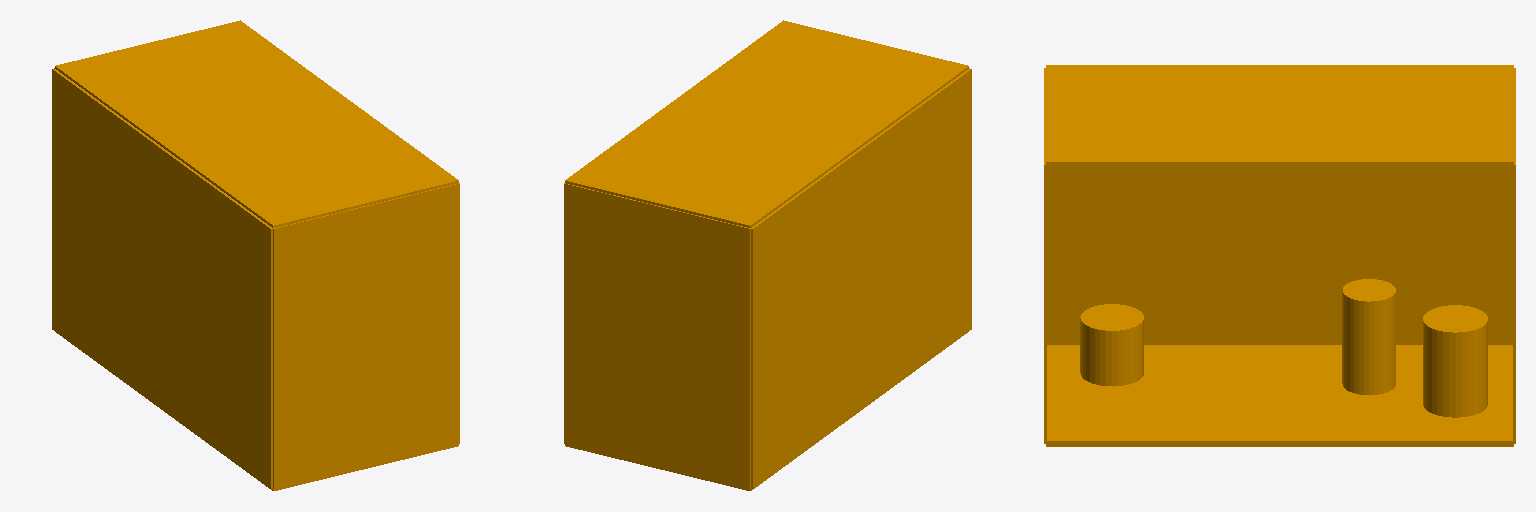
URDF robot description (syn_can_cabinet_2803):
<?xml version="1.0" ?>
<robot name="syn_can_cabinet_2803">
    <link concave="yes" name="base_link">
        <inertial>
            <origin rpy="0 0 0" xyz="0 0 0"/>
            <mass value="0.0"/>
            <inertia ixx="1e-08" ixy="0" ixz="0" iyy="1e-08" iyz="0" izz="1e-08"/>
        </inertial>
        <visual>
            <origin xyz="0 0 0" rpy="0 0 0" />
            <geometry>
                <mesh filename="syn_can_cabinet_2803.obj" scale="1.000000 1.000000 1.000000"/>
            </geometry>         
        </visual>

        <collision concave="yes">
            <origin xyz="0 0 0" rpy="0 0 0"/>
            <geometry>
                <mesh filename="syn_can_cabinet_2803.obj" scale="1.000000 1.000000 1.000000"/>
            </geometry>
        </collision>
    </link>
</robot>
    

--- Facts derived from the render (not from the file) ---
The picture shows the robot from 3 angles, left to right: view 1: azimuth 30°, elevation 25°; view 2: azimuth 150°, elevation 25°; view 3: azimuth 270°, elevation 25°; orthographic projection.
Robot: syn_can_cabinet_2803 — 1 links, 0 joints (none); root link base_link; default pose: all joints at 0.
Links seen in each view (by area): view 1: base_link; view 2: base_link; view 3: base_link.
Link boxes in pixels (<box>): base_link: <box>52,20,459,490</box>; base_link: <box>564,20,971,490</box>; base_link: <box>1044,65,1515,446</box>.
Size in the robot's own frame: 0.2128 by 0.4305 by 0.2869 metres.
1 mesh visuals loaded from 1 distinct referenced files (1 OBJ).
